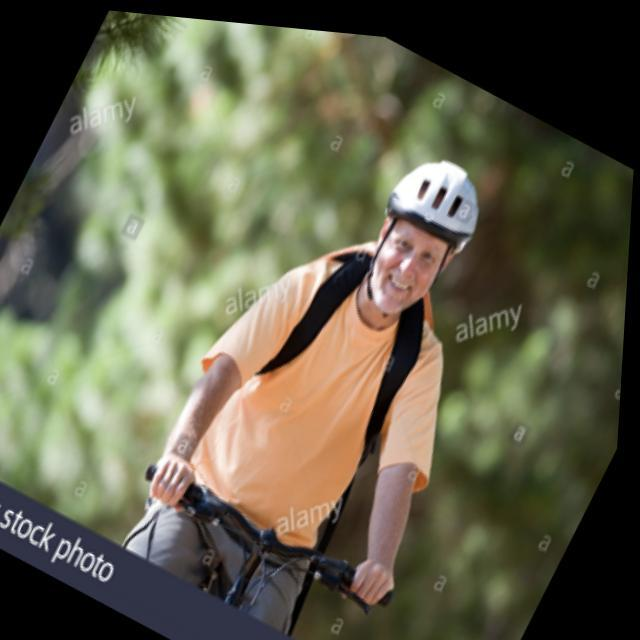Helmet: (363, 158, 481, 318)
